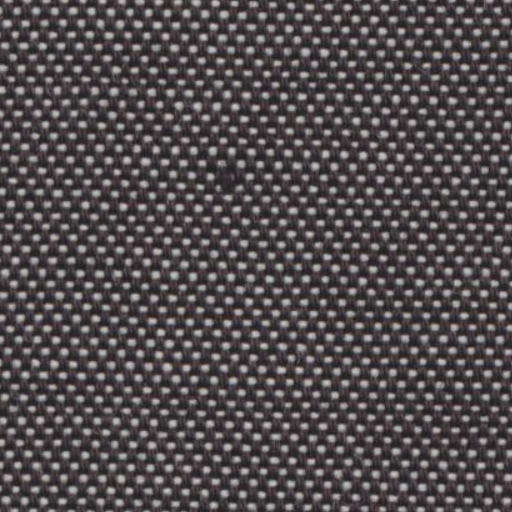MianQiu: (204, 150, 262, 206)
